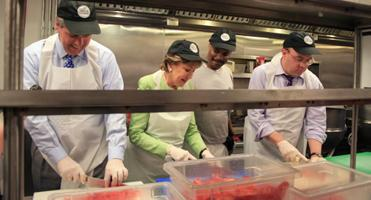person: (24, 1, 130, 188)
